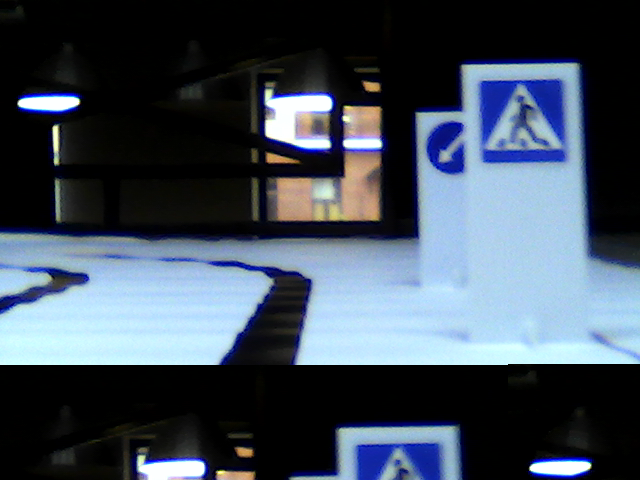pesh: (477, 76, 570, 166)
prep: (427, 120, 469, 172)
